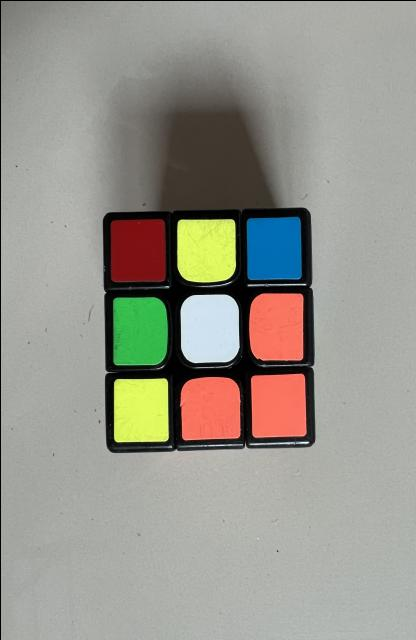Blue: (246, 216, 301, 279)
Green: (112, 296, 167, 365)
Orange: (179, 376, 239, 440), (248, 292, 302, 360), (250, 372, 306, 436)
Red: (109, 218, 165, 281)
White: (180, 294, 238, 362)
Yellow: (177, 218, 235, 281), (113, 378, 168, 441)
